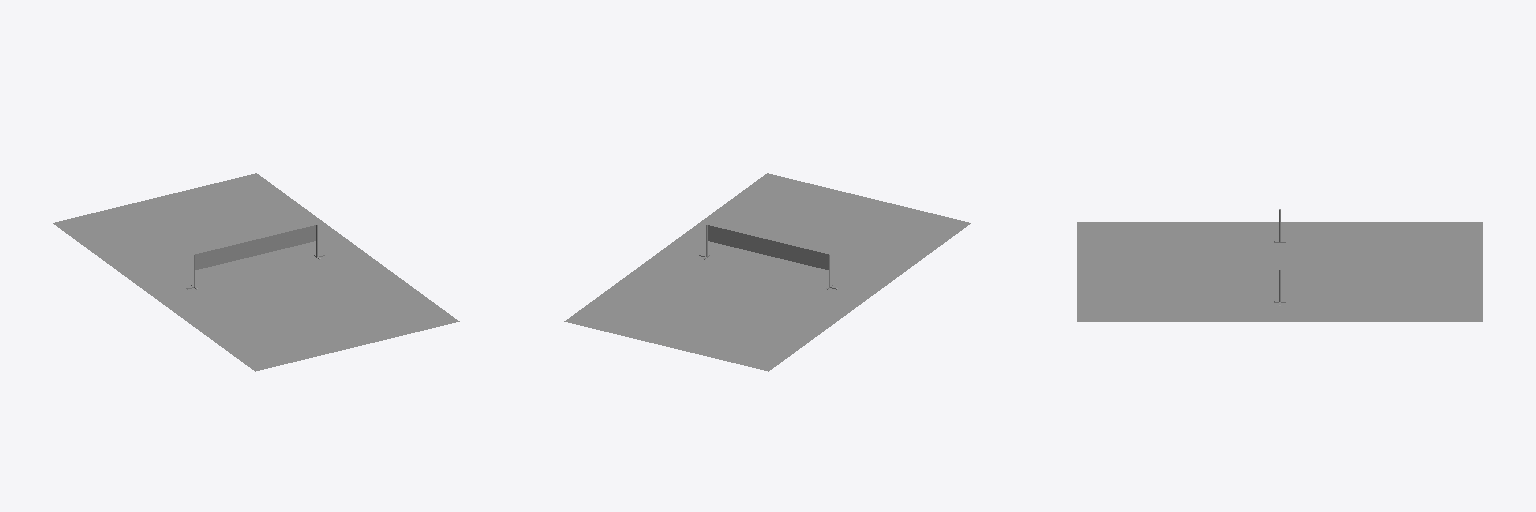
The model's file is court-old.obj.
3 renders of one model, left to right at view 1: azimuth 30°, elevation 25°; view 2: azimuth 150°, elevation 25°; view 3: azimuth 270°, elevation 25°, orthographic.
Visible parts, largest first — view 1: Court_Plane, Net_Cylinder; view 2: Court_Plane, Net_Cylinder; view 3: Court_Plane.
Boxes of the visible parts, <box> form: Court_Plane: <box>53,173,459,371</box>; Net_Cylinder: <box>186,224,324,289</box>; Court_Plane: <box>564,173,970,371</box>; Net_Cylinder: <box>699,224,837,289</box>; Court_Plane: <box>1077,222,1482,321</box>.
Bounding box in the file's own units: 10.13 × 1.55 × 17.4.